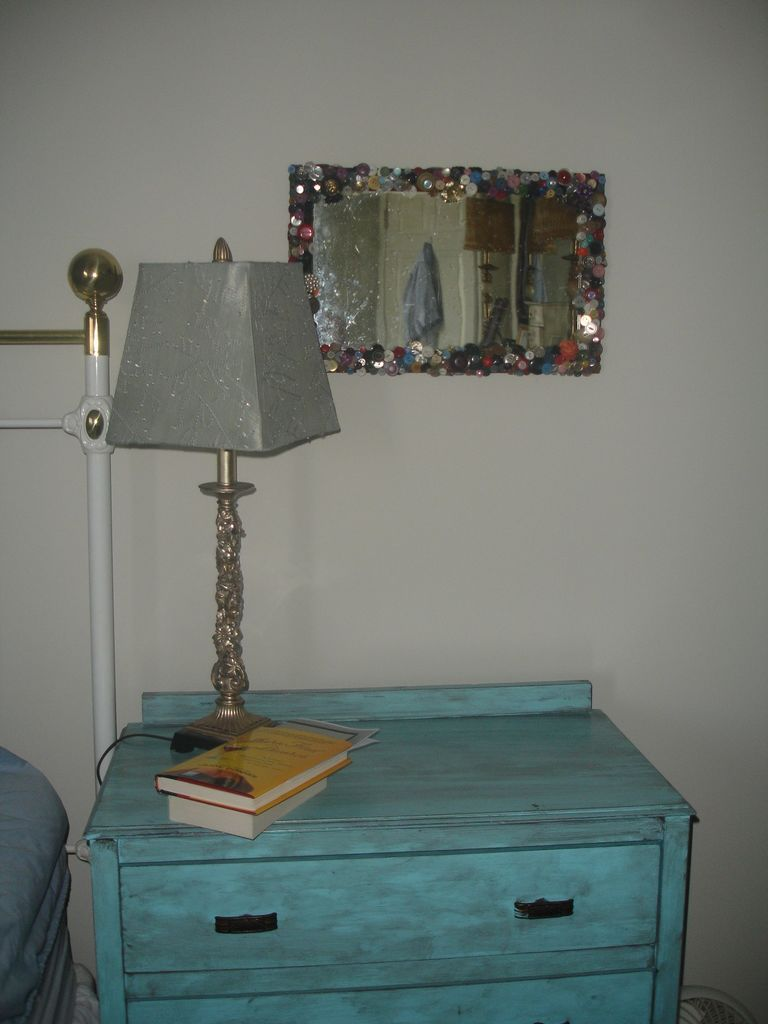cabinet door: (127, 868, 662, 942), (131, 996, 653, 1024)
handle: (211, 903, 280, 950), (512, 897, 575, 930)
